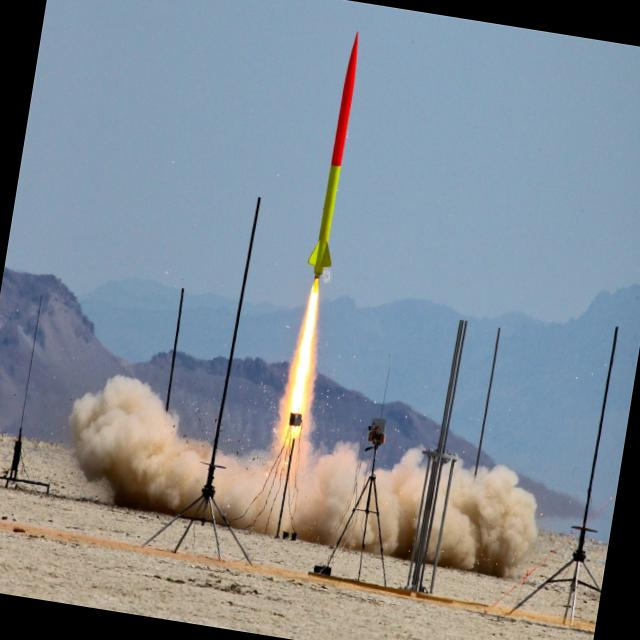rocket: (285, 27, 374, 384)
